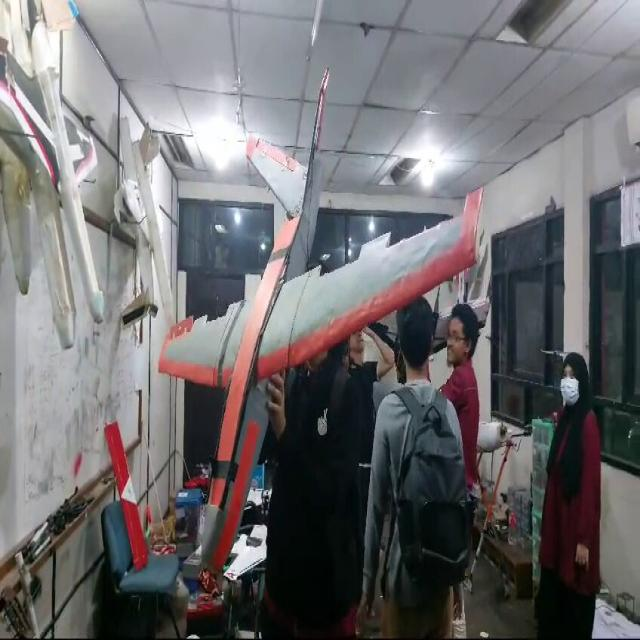plane: (157, 64, 491, 581)
